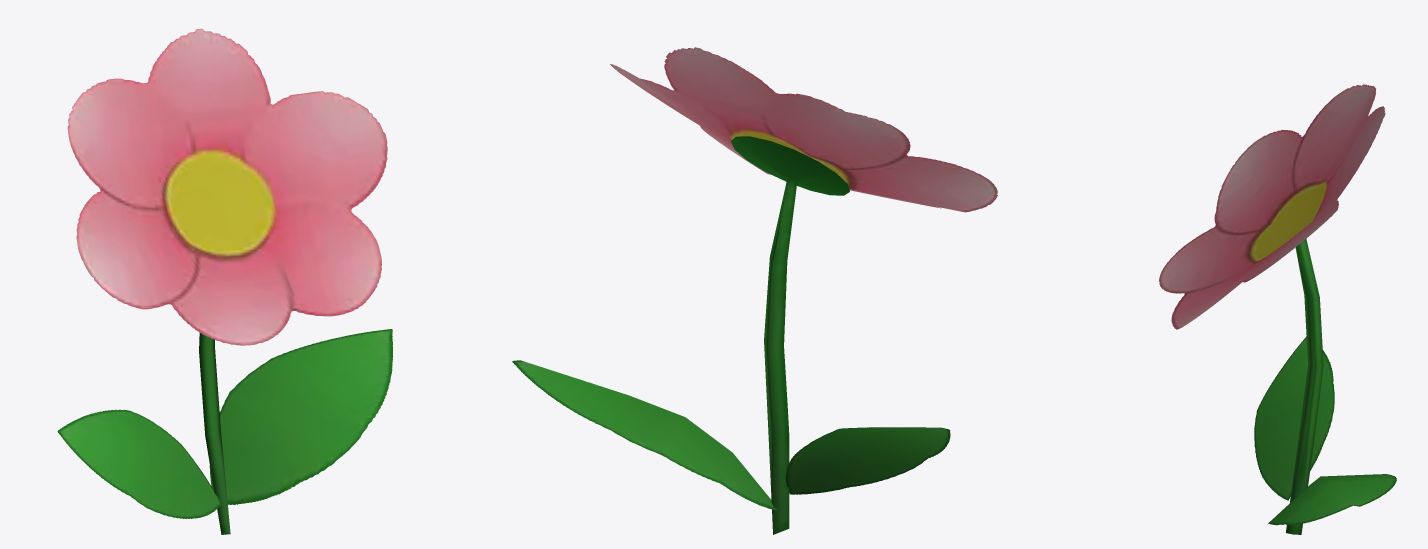
File: tulip.glb
3 views of the same model, side by side, from view 1: azimuth 30°, elevation 25°; view 2: azimuth 150°, elevation 25°; view 3: azimuth 270°, elevation 25° (orthographic). The views are drawn at different scales.
Parts seen in each view (by area): view 1: flower; view 2: flower; view 3: flower.
Boxes of the visible parts, x1,y1,x2,y2 form: flower: (57,28,392,534); flower: (512,47,997,534); flower: (1159,84,1396,534).
Bounding box in the file's own units: 0.7908 × 0.8315 × 0.4975.
Materials: 1 (1 with a texture image).
